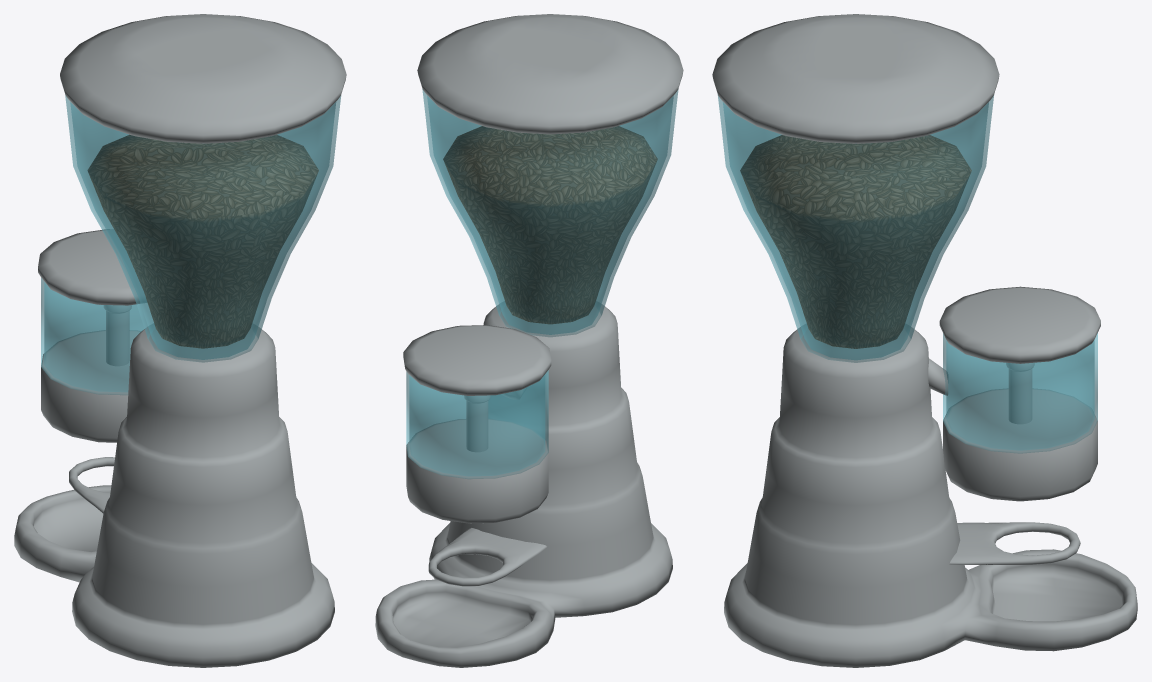
File: coffGrinder3.fbx
3 views of the same model, side by side, from view 1: azimuth 30°, elevation 25°; view 2: azimuth 150°, elevation 25°; view 3: azimuth 270°, elevation 25° (orthographic). The views are drawn at different scales.
Parts seen in each view (by area): view 1: beans.001; view 2: beans.001; view 3: beans.001.
Boxes of the visible parts, bbox=[...] form: beans.001: bbox=[14, 14, 346, 667]; beans.001: bbox=[375, 14, 683, 667]; beans.001: bbox=[712, 14, 1137, 667].
Bounding box in the file's own units: 42.46 × 91.46 × 62.86.
